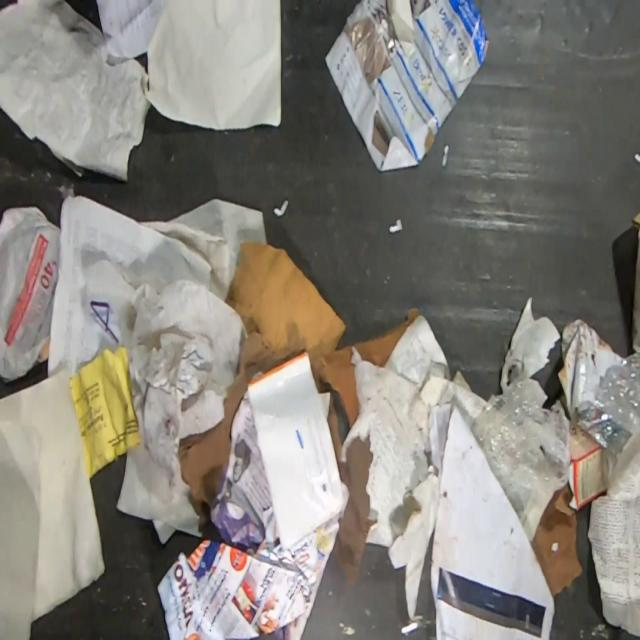cardboard: (230, 239, 345, 351), (389, 473, 439, 618), (568, 419, 604, 510)
soft_plastic: (470, 372, 571, 539), (577, 342, 640, 489)
